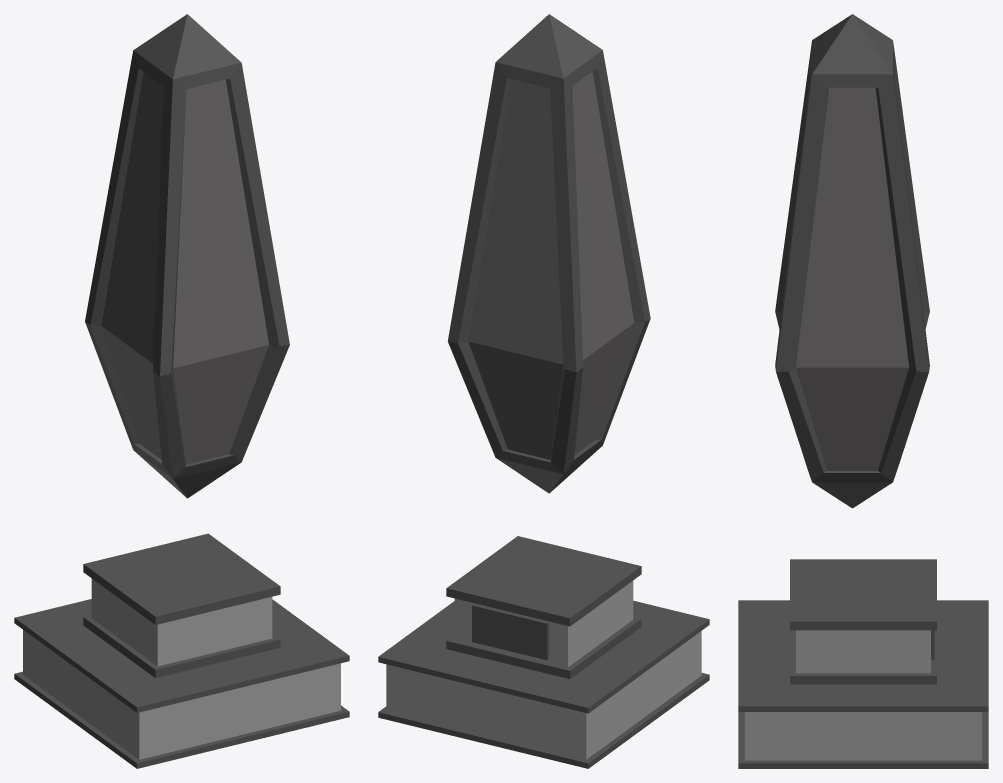
Rendered from Obelisk.fbx.
3 views of the same model, side by side, from view 1: azimuth 30°, elevation 25°; view 2: azimuth 150°, elevation 25°; view 3: azimuth 270°, elevation 25° (orthographic). The views are drawn at different scales.
Parts seen in each view (by area): view 1: Obelisk; view 2: Obelisk; view 3: Obelisk.
Boxes of the visible parts, left/top/right/bottom form: Obelisk: left=14, top=14, right=349, bottom=768; Obelisk: left=378, top=14, right=709, bottom=768; Obelisk: left=738, top=14, right=988, bottom=768.
Size of the model in its own units: 72.27 by 224 by 72.27.
